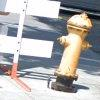a fire hydrant: (53, 10, 95, 82)
